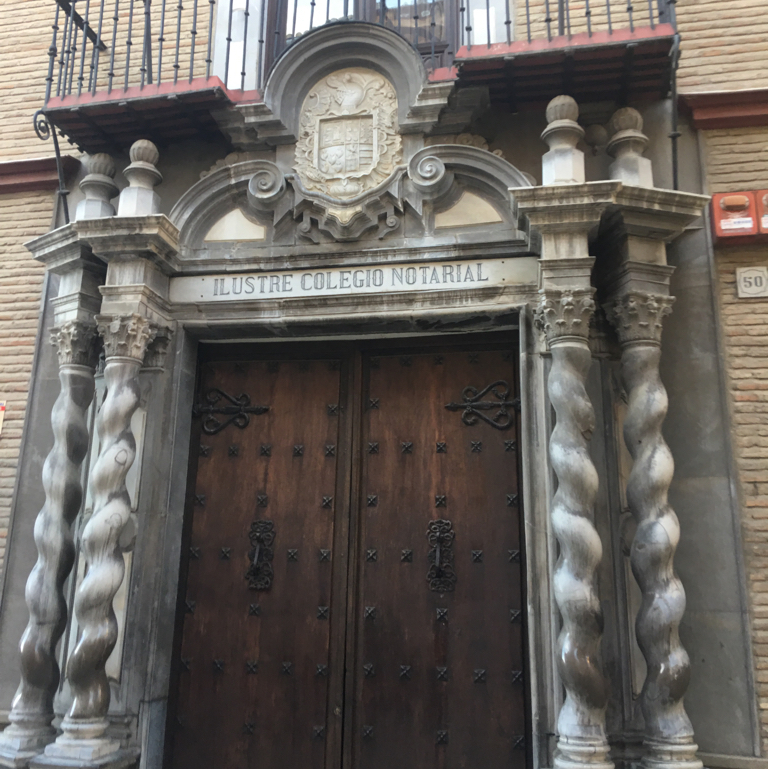columna-salomonica: (617, 308, 702, 757), (536, 293, 617, 751), (60, 354, 154, 731), (12, 365, 95, 733)
fronton-partido: (142, 133, 533, 260)
vano-adintelado: (157, 308, 535, 769)
